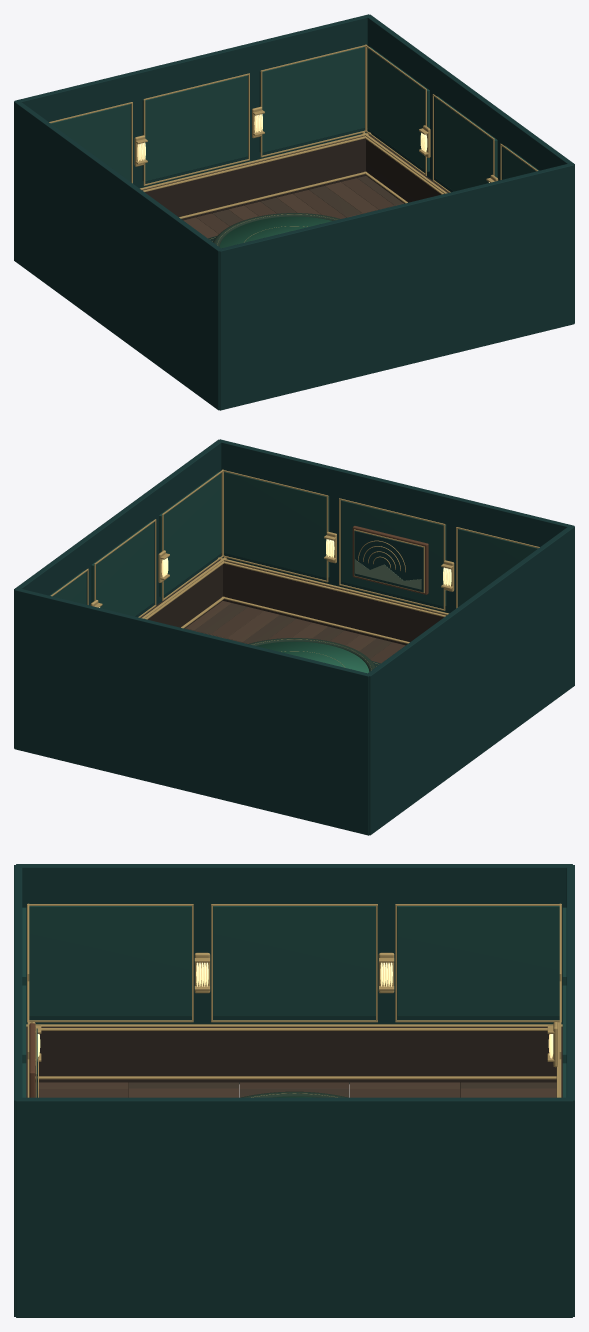
The model's file is poker-lounge.glb.
3 views of the same model, one above another, from view 1: azimuth 30°, elevation 25°; view 2: azimuth 150°, elevation 25°; view 3: azimuth 270°, elevation 25° (orthographic). The views are drawn at different scales.
Visible parts, largest first — view 1: Midnight teal walls, Recessed petrol panels, Walnut end grain, Brushed old brass, Walnut floor tone 2, Walnut floor tone 3, Walnut floor tone 1, Tournament green baize, Dark olive rail leather; view 2: Midnight teal walls, Recessed petrol panels, Walnut end grain, Brushed old brass, Walnut floor tone 1, Walnut floor tone 2, Walnut floor tone 3, Tournament green baize, Oiled walnut, Art enamel sage, Dark olive rail leather; view 3: Midnight teal walls, Recessed petrol panels, Walnut end grain, Brushed old brass, Walnut floor tone 3, Walnut floor tone 2, Walnut floor tone 1, Linen and amber glass.
Boxes of the visible parts, box(x1,y1,x2,y2) form: Midnight teal walls: box(14, 14, 574, 410); Recessed petrol panels: box(51, 46, 538, 191); Walnut end grain: box(142, 134, 448, 220); Brushed old brass: box(49, 44, 537, 218); Walnut floor tone 2: box(196, 178, 394, 233); Walnut floor tone 3: box(183, 182, 403, 238); Walnut floor tone 1: box(212, 176, 402, 225); Tournament green baize: box(219, 216, 332, 248); Dark olive rail leather: box(213, 213, 340, 246); Midnight teal walls: box(14, 439, 574, 835); Recessed petrol panels: box(50, 471, 537, 616); Walnut end grain: box(140, 559, 446, 645); Brushed old brass: box(51, 469, 539, 643); Walnut floor tone 1: box(185, 603, 392, 658); Walnut floor tone 2: box(194, 607, 405, 663); Walnut floor tone 3: box(186, 601, 376, 650); Tournament green baize: box(256, 641, 369, 673); Oiled walnut: box(352, 526, 428, 594); Art enamel sage: box(355, 559, 421, 589); Dark olive rail leather: box(248, 638, 375, 671); Midnight teal walls: box(14, 864, 574, 1317); Recessed petrol panels: box(22, 906, 566, 1097); Walnut end grain: box(26, 1027, 562, 1097); Brushed old brass: box(26, 903, 562, 1097); Walnut floor tone 3: box(35, 1082, 556, 1097); Walnut floor tone 2: box(35, 1082, 460, 1097); Walnut floor tone 1: box(128, 1082, 556, 1097); Linen and amber glass: box(37, 962, 553, 1058).
Bounding box in the file's own units: 12.18 × 5.2 × 12.18.
